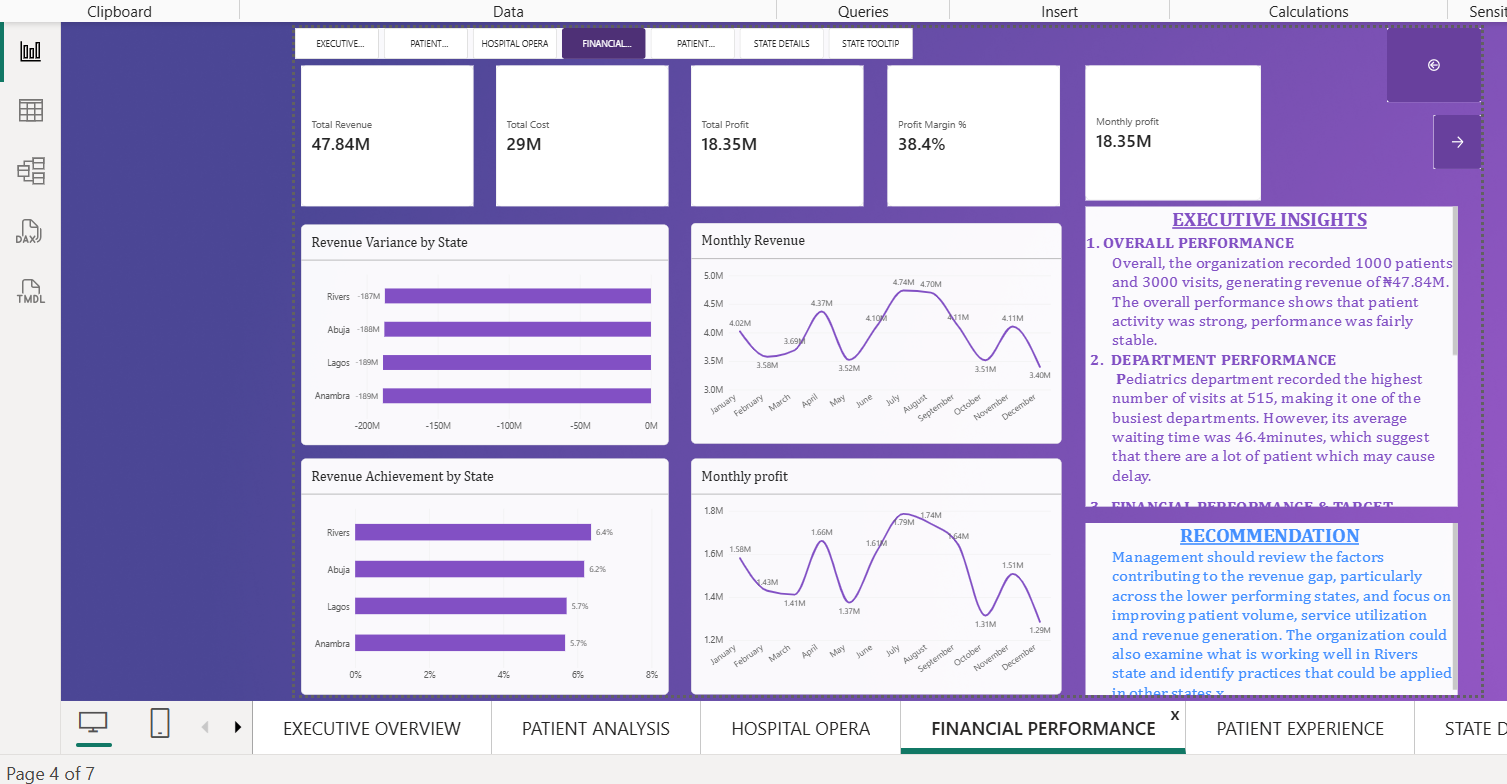

The dashboard page shown, as its layout file describes it:
{"tool":"powerbi","page":{"name":"FINANCIAL PERFORMANCE","canvas":[1920,1080],"ordinal":3},"visuals":[{"type":"cardVisual","fields":{"Data":["Date_Table.Total Revenue"]},"box":[9.7,60.7,279.3,228.3],"z":0},{"type":"cardVisual","fields":{"Data":["Date_Table.Total Cost"]},"box":[325.5,60.7,279.3,228.3],"z":1},{"type":"cardVisual","fields":{"Data":["Date_Table.Total Profit"]},"box":[641.2,60.7,279.3,228.3],"z":2},{"type":"cardVisual","fields":{"Data":["Date_Table.Profit Margin %"]},"box":[959.4,60.7,279.3,228.3],"z":3},{"type":"clusteredBarChart","title":"Revenue Variance by State","fields":{"Category":["Patient_Visits.State"],"Y":["Date_Table.Revenue Variance"]},"box":[9.7,318.2,595,357.5],"z":4},{"type":"clusteredBarChart","title":"Revenue Achievement by State","fields":{"Category":["Patient_Visits.State"],"Y":["Date_Table.Achievement %"]},"box":[10,697.5,595,382.5],"z":5},{"type":"lineChart","title":"Monthly Revenue","fields":{"Category":["Date_Table.Month"],"Y":["Date_Table.Total Revenue"]},"box":[641.2,315.7,600,357.5],"z":6},{"type":"cardVisual","fields":{"Data":["Date_Table.Monthly profit"]},"box":[1280,60.7,284.2,218.6],"z":7},{"type":"lineChart","title":"Monthly profit ","fields":{"Category":["Date_Table.Month"],"Y":["Date_Table.Monthly profit"]},"box":[640,698,600,382],"z":8},{"type":"actionButton","box":[1726.9,170,155.4,102],"z":9},{"type":"textbox","box":[1280,289,602.4,485.8],"z":11},{"type":"textbox","box":[1280,801.5,602.4,279.3],"z":12},{"type":"pageNavigator","box":[920.5,0,1000,50],"z":13}]}

Visuals, with their boxes on the page's 1920x1080 design canvas (x1, y1, x2, y2). These are canvas units, not pixel positions in the 1507x784 screenshot, which may show the page scaled, cropped or inside an application window:
cardVisual - Date_Table.Total Revenue: l=10, t=61, r=289, b=289
cardVisual - Date_Table.Total Cost: l=326, t=61, r=605, b=289
cardVisual - Date_Table.Total Profit: l=641, t=61, r=920, b=289
cardVisual - Date_Table.Profit Margin %: l=959, t=61, r=1239, b=289
"Revenue Variance by State" clusteredBarChart: l=10, t=318, r=605, b=676
"Revenue Achievement by State" clusteredBarChart: l=10, t=698, r=605, b=1080
"Monthly Revenue" lineChart: l=641, t=316, r=1241, b=673
cardVisual - Date_Table.Monthly profit: l=1280, t=61, r=1564, b=279
"Monthly profit " lineChart: l=640, t=698, r=1240, b=1080
actionButton: l=1727, t=170, r=1882, b=272
textbox: l=1280, t=289, r=1882, b=775
textbox: l=1280, t=802, r=1882, b=1081
pageNavigator: l=920, t=0, r=1920, b=50
